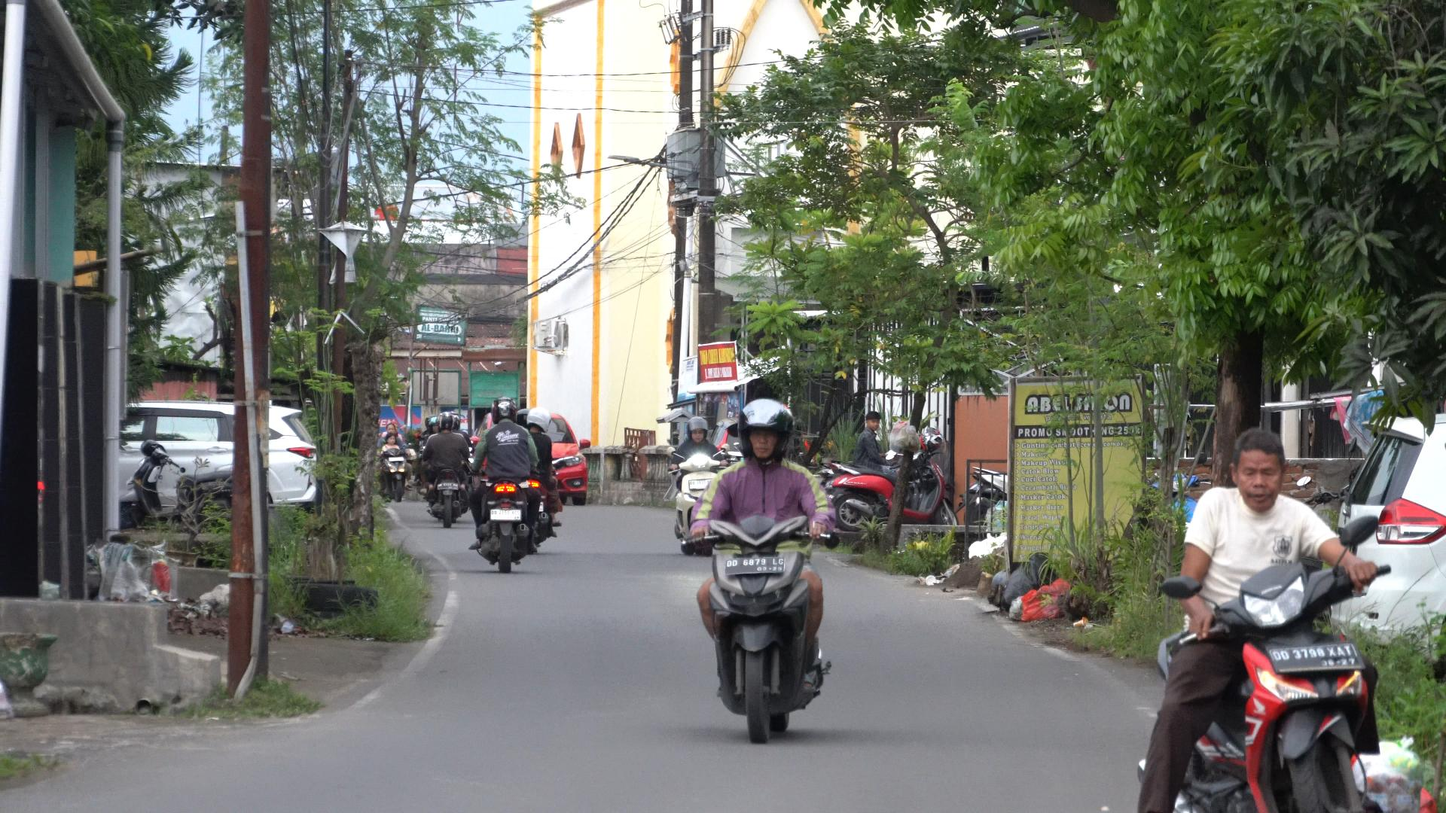number-plate: (726, 553, 783, 580)
